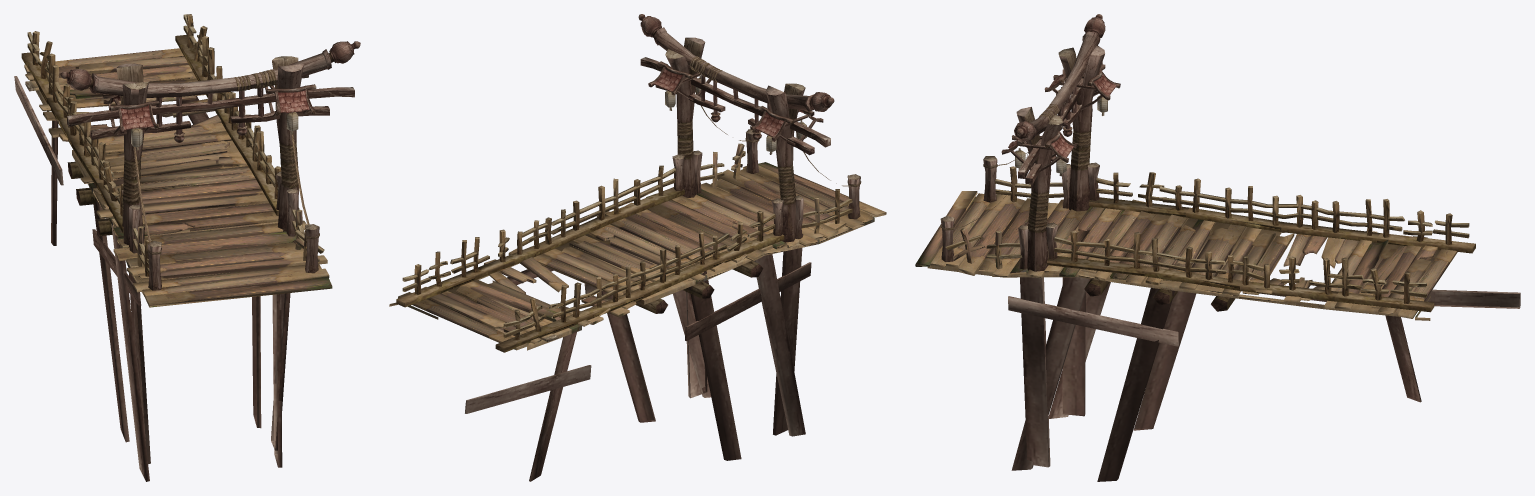
The model's file is s_battle_04_qiao.FBX.
3 renders of one model, left to right at view 1: azimuth 30°, elevation 25°; view 2: azimuth 150°, elevation 25°; view 3: azimuth 270°, elevation 25°, orthographic. The views are drawn at different scales.
Visible parts, largest first — view 1: qiao, fls_building_bridge002; view 2: qiao, fls_building_bridge002; view 3: qiao, fls_building_bridge002.
Boxes of the visible parts, x1,y1,x2,y2 form: qiao: (21, 14, 332, 307); fls_building_bridge002: (14, 41, 360, 481); qiao: (389, 143, 886, 352); fls_building_bridge002: (465, 14, 861, 481); qiao: (915, 166, 1475, 320); fls_building_bridge002: (940, 14, 1520, 481).
Bounding box in the file's own units: 24.97 × 30.87 × 44.68.
Materials: 1 (1 with a texture image).
